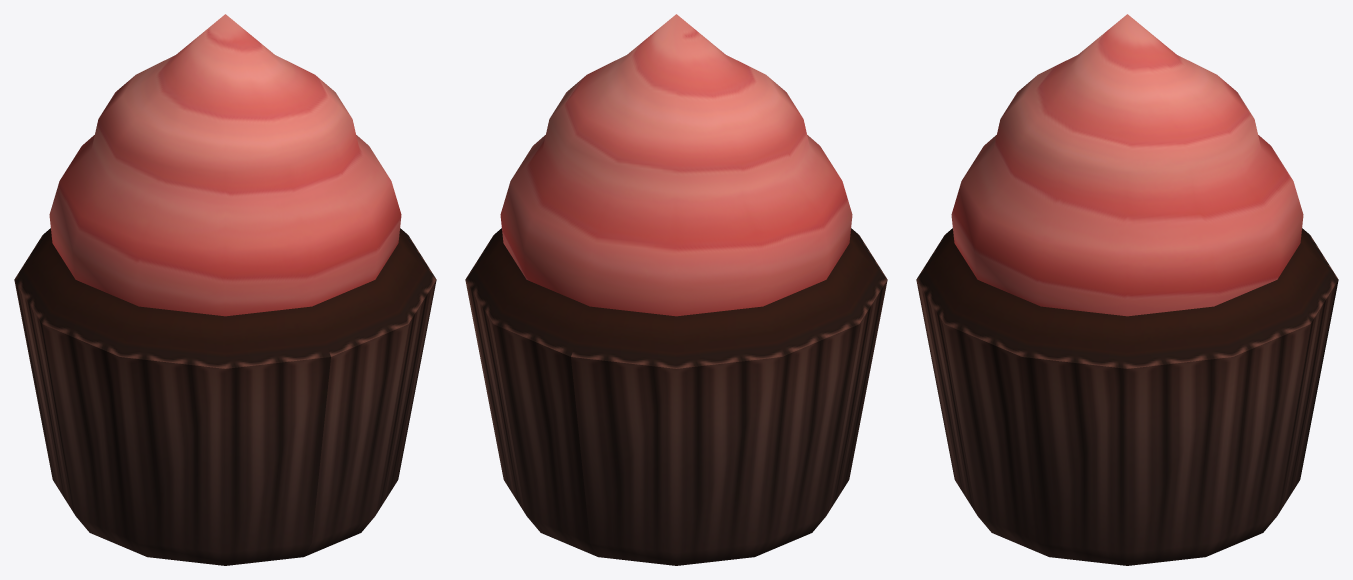
File: 009-Cupcakes_002.FBX
3 renders of one model, left to right at view 1: azimuth 30°, elevation 25°; view 2: azimuth 150°, elevation 25°; view 3: azimuth 270°, elevation 25°, orthographic.
Parts seen in each view (by area): view 1: 009-Cupcakes_002; view 2: 009-Cupcakes_002; view 3: 009-Cupcakes_002.
Boxes of the visible parts, box(x1,y1,x2,y2) form: 009-Cupcakes_002: box(14, 14, 436, 565); 009-Cupcakes_002: box(465, 14, 887, 565); 009-Cupcakes_002: box(916, 14, 1338, 565).
Bounding box in the file's own units: 12.34 × 15.65 × 12.34.
